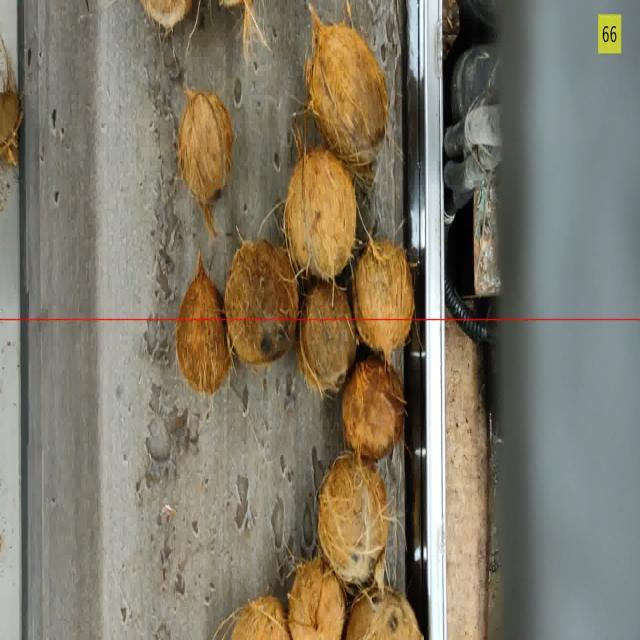Coconut-Conveyor-Belt: (307, 20, 385, 168), (322, 455, 387, 581), (229, 248, 295, 360), (178, 88, 233, 219), (292, 158, 354, 274), (179, 270, 228, 397), (361, 245, 413, 358), (300, 282, 354, 387), (346, 362, 404, 449), (287, 566, 347, 640), (351, 588, 419, 640), (230, 601, 285, 640)
